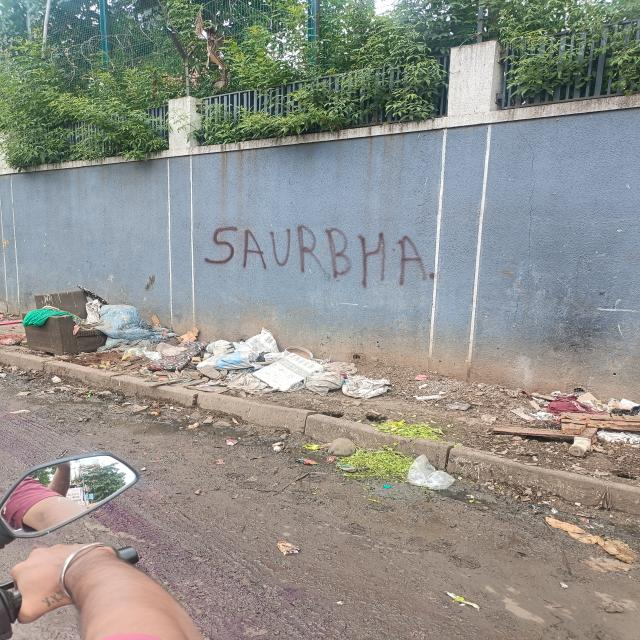garbage: (34, 292, 195, 368), (199, 336, 380, 394), (529, 388, 640, 453)
